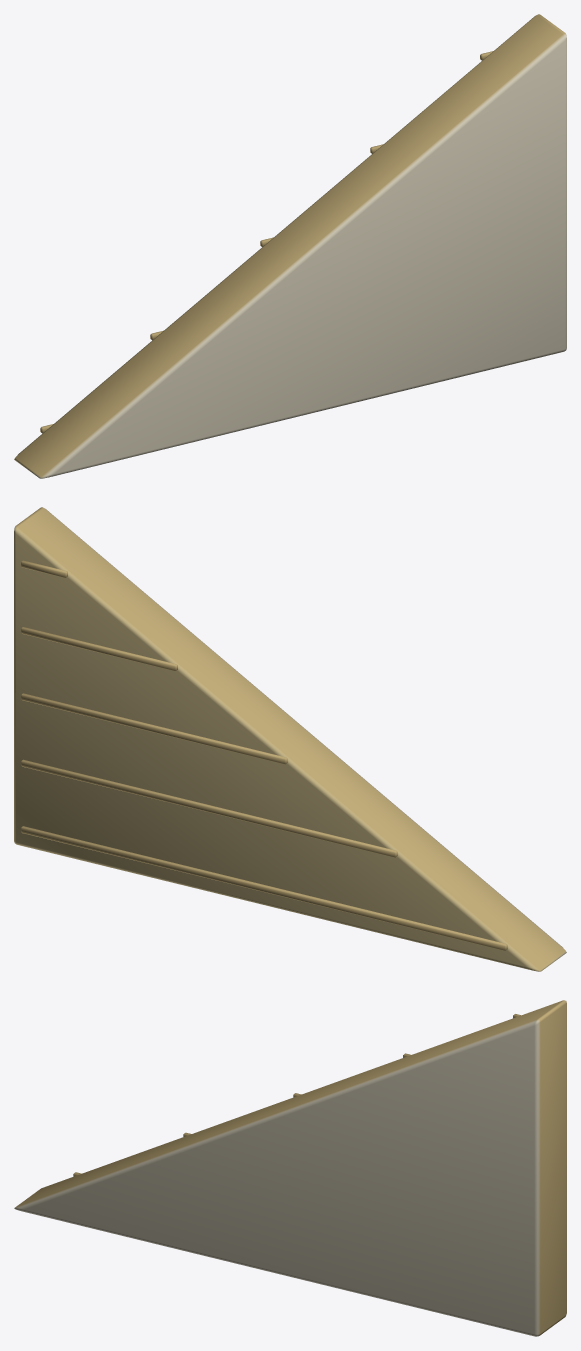
Rendered from gable_cream_r.glb.
3 renders of one model, top to bottom at view 1: azimuth 30°, elevation 25°; view 2: azimuth 150°, elevation 25°; view 3: azimuth 330°, elevation 25°, orthographic.
Parts seen in each view (by area): view 1: gable_cream_r; view 2: gable_cream_r; view 3: gable_cream_r.
Part boxes in pixels (x1,y1,x2,y2): gable_cream_r: (14, 14, 566, 478); gable_cream_r: (14, 507, 566, 971); gable_cream_r: (14, 1000, 566, 1336).
Size of the model in its own units: 1.99 by 1.15 by 0.216.
